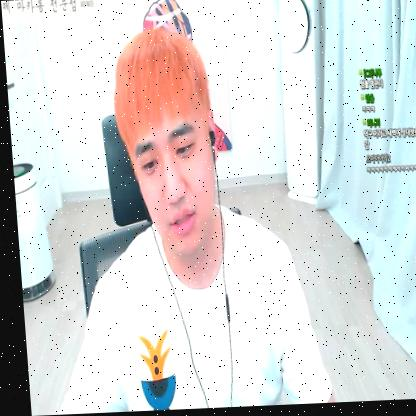streamer: (23, 21, 329, 415)
